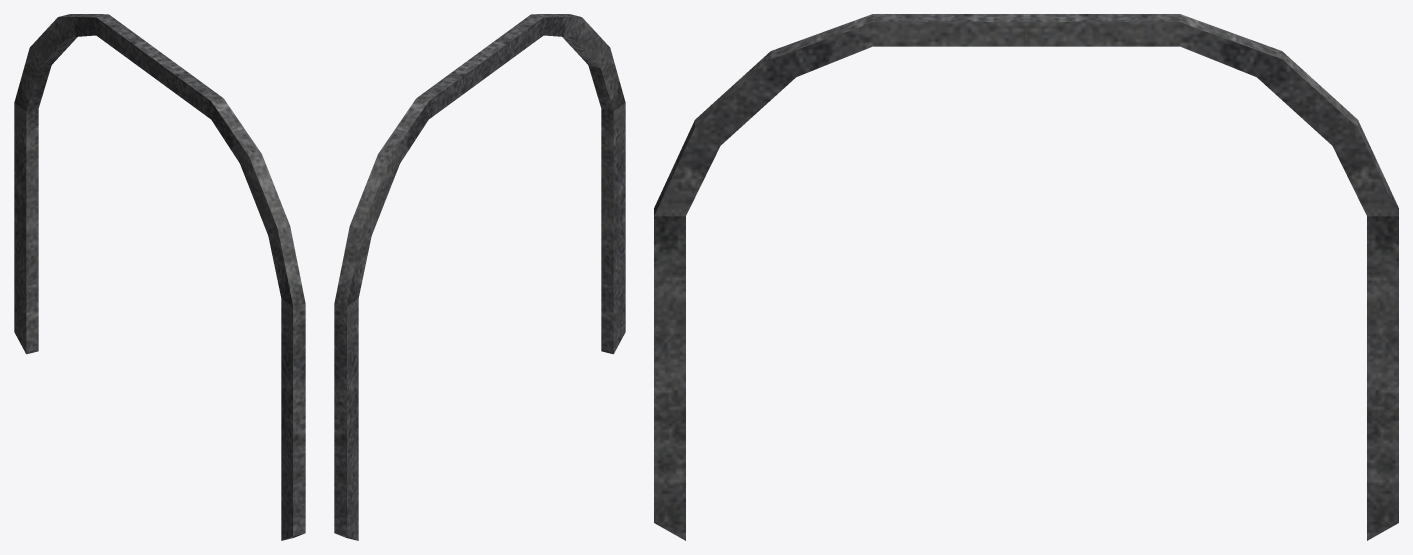
The model's file is DiningHallbeams.fbx.
3 views of the same model, side by side, from view 1: azimuth 30°, elevation 25°; view 2: azimuth 150°, elevation 25°; view 3: azimuth 270°, elevation 25° (orthographic). The views are drawn at different scales.
Visible parts, largest first — view 1: Sphere.001; view 2: Sphere.001; view 3: Sphere.001.
Boxes of the visible parts, x1=… form: Sphere.001: x1=14, y1=14, x2=305, y2=540; Sphere.001: x1=334, y1=14, x2=625, y2=540; Sphere.001: x1=654, y1=14, x2=1398, y2=540.
Bounding box in the file's own units: 25.74 × 766 × 997.
1 material, 1 textured.
